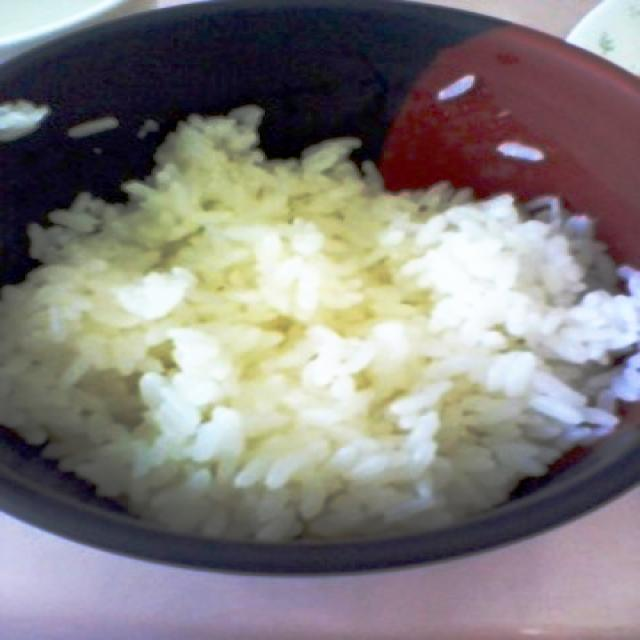rice: (0, 75, 635, 537)
